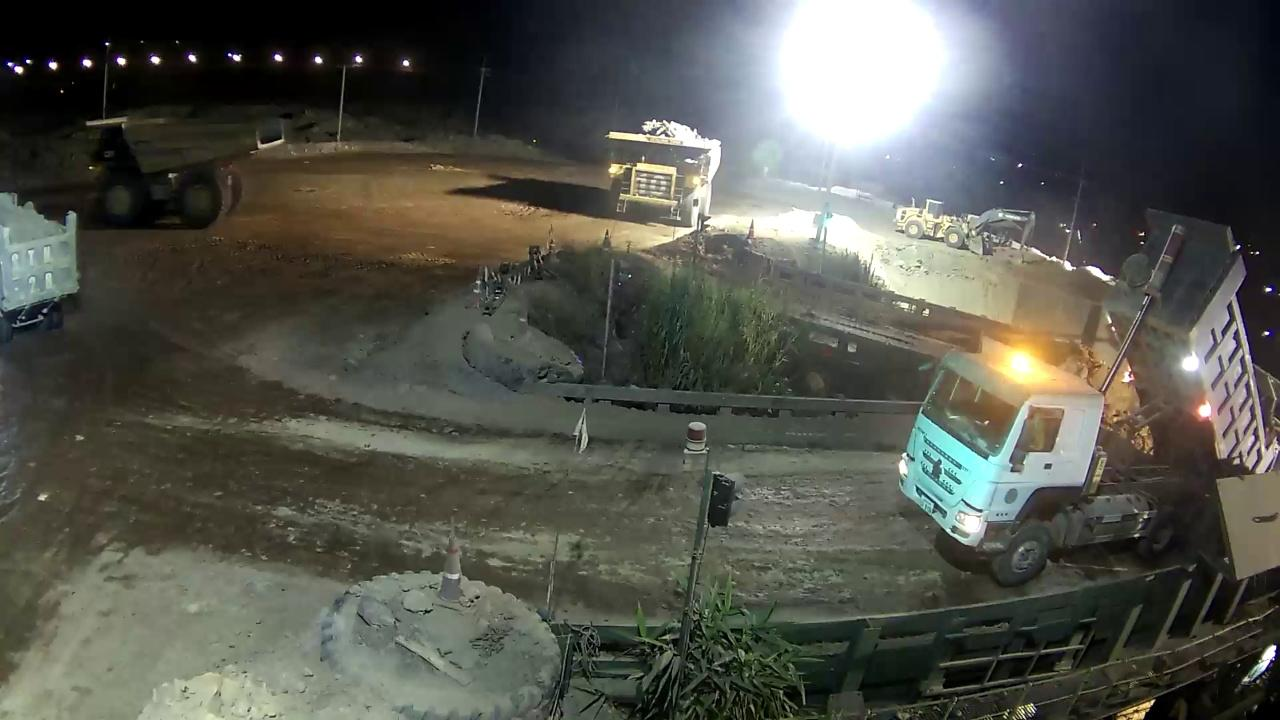front_number: (634, 167, 674, 202)
full_load: (634, 119, 716, 146)
mining_truck: (81, 98, 287, 234), (601, 112, 724, 232)
